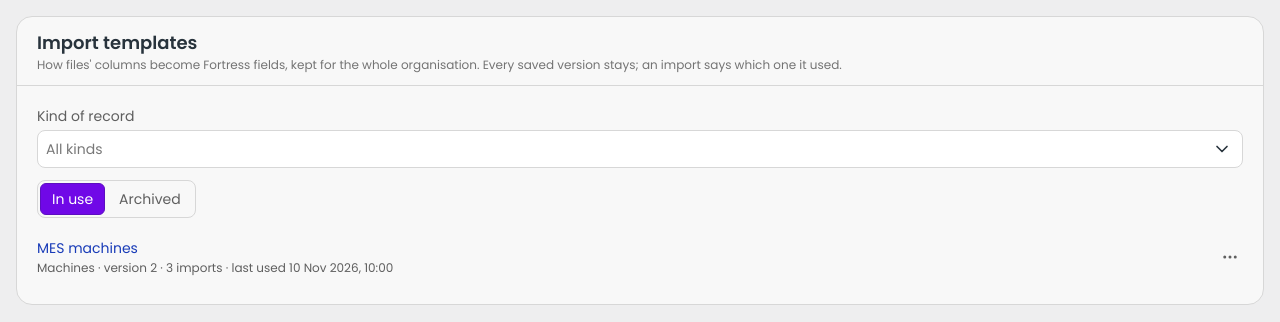
Test: template manager › lists templates by kind with their version and use; archived ones on their own tab
Check: the text "Machines · version 2 · 3 imports · last used" is shown, box [37,259,393,276]
Click the button "Archived".
click(150, 199)  # box [107,183,193,215]
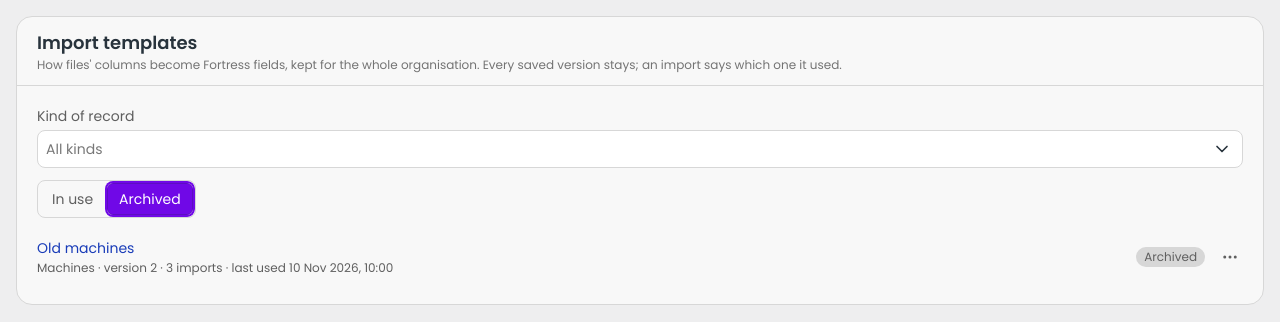
Check: the link "Old machines" is shown, box [37,238,134,258]
